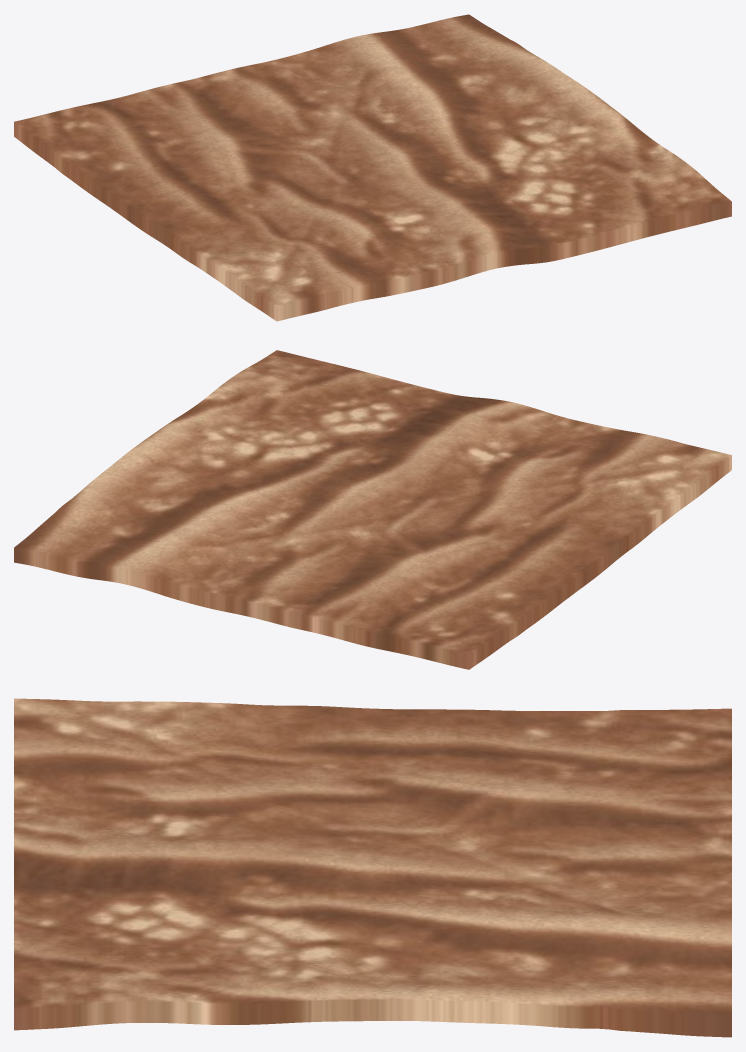
3 renders of one model, top to bottom at view 1: azimuth 30°, elevation 25°; view 2: azimuth 150°, elevation 25°; view 3: azimuth 270°, elevation 25°, orthographic. The views are drawn at different scales.
Parts seen in each view (by area): view 1: L8_133_107; view 2: L8_133_107; view 3: L8_133_107.
Boxes of the visible parts, x1,y1,x2,y2 form: L8_133_107: [14, 14, 731, 321]; L8_133_107: [14, 350, 731, 669]; L8_133_107: [14, 698, 731, 1037].
Bounding box in the file's own units: 56.27 × 3.27 × 56.28.
1 material, 1 textured.
